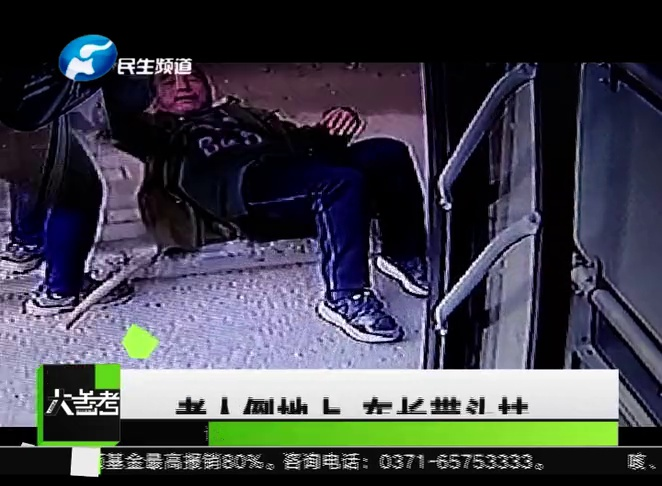fall: (112, 67, 437, 335)
nofall: (1, 59, 137, 307)
